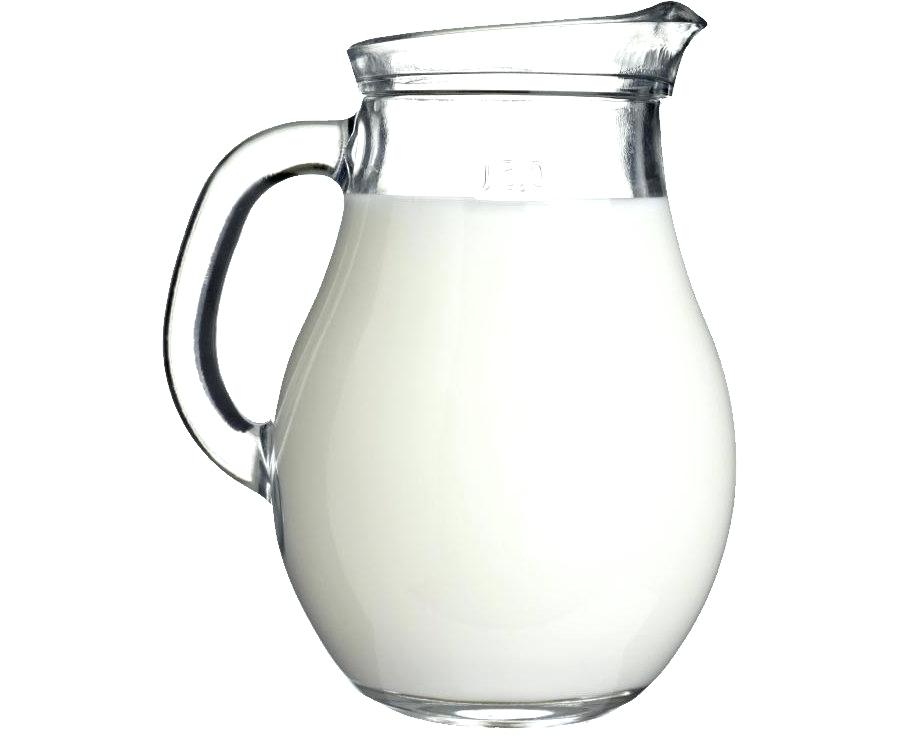glass of milk: (298, 88, 666, 699)
